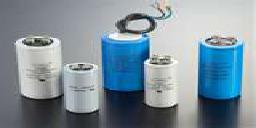Electrolytic-Capacitor: (98, 4, 162, 99), (195, 30, 246, 111), (12, 31, 65, 108), (139, 53, 181, 110), (60, 61, 102, 115)
